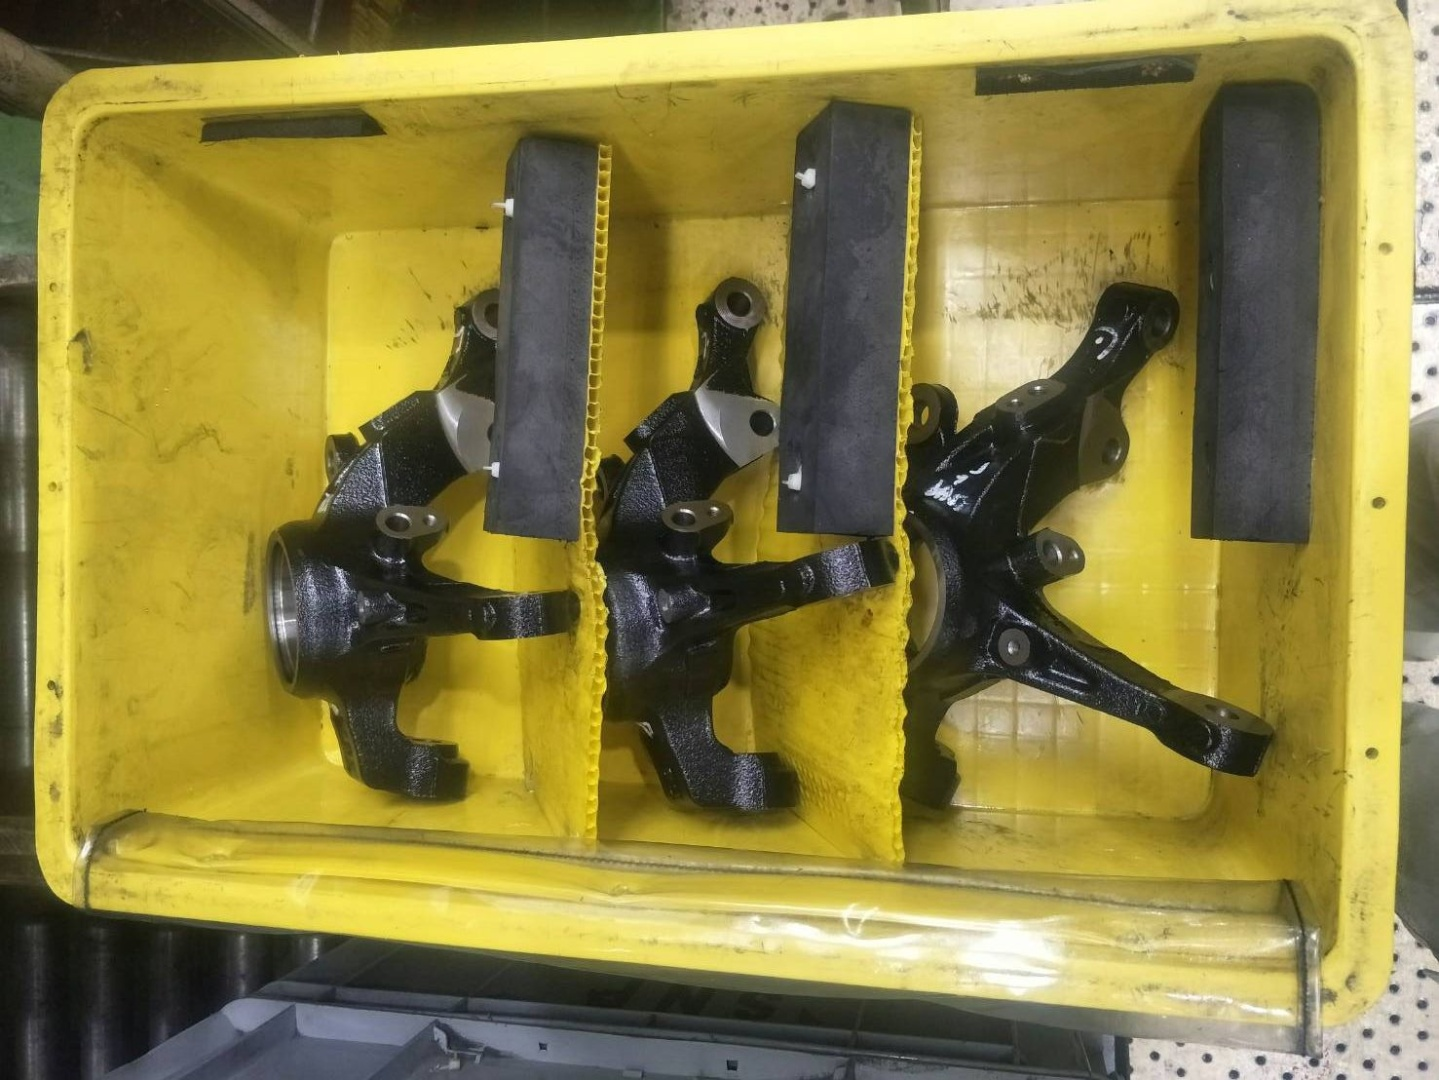abs-lh: (902, 260, 1281, 842), (254, 275, 590, 815), (594, 265, 896, 832)
